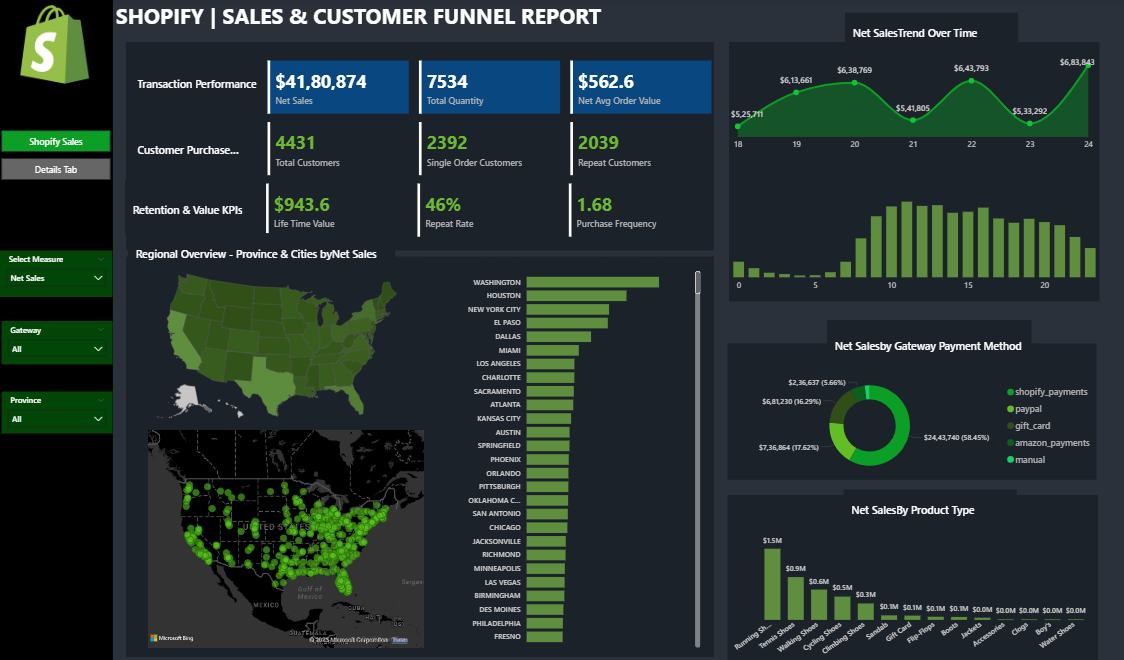

The page's visual inventory and layout, read from the dashboard file:
{"tool":"powerbi","page":{"name":"Shopify Sales","canvas":[1700,1000],"ordinal":0},"visuals":[{"type":"shape","box":[0,0,170,1000.8],"z":0},{"type":"textbox","box":[169.4,0,788.4,67.8],"z":1000},{"type":"shape","box":[189.8,67.8,885.6,314],"z":2000},{"type":"cardVisual","fields":{"Data":["shopify_sales.Net Sales","shopify_sales.Total Quantity","shopify_sales.Net Avg Order Value"]},"box":[397.6,90.4,680,90.4],"z":3000},{"type":"cardVisual","fields":{"Data":["shopify_sales.Transaction Performance"]},"box":[189.8,90.4,214.6,70],"z":4000},{"type":"cardVisual","fields":{"Data":["shopify_sales.Total Customers","shopify_sales.Single Order Customers","shopify_sales.Repeat Customers"]},"box":[397.6,183,680,90.4],"z":5000},{"type":"cardVisual","fields":{"Data":["shopify_sales.Customer Purchase Behaviour"]},"box":[189.8,180.7,214.6,90.4],"z":6000},{"type":"cardVisual","fields":{"Data":["shopify_sales.Life Time Value","shopify_sales.Repeat Rate","shopify_sales.Purchase Frequency"]},"box":[395.3,275.6,680,90.4],"z":7000},{"type":"cardVisual","fields":{"Data":["shopify_sales.Retention & Value KPIs"]},"box":[183,271.1,214.6,90.4],"z":8000},{"type":"shape","box":[189.8,390.8,885.6,603.2],"z":9000},{"type":"shapeMap","fields":{"Category":["shopify_sales.Billing Address Province"],"Value":["shopify_sales.Net Sales"]},"box":[189.8,399.9,454.1,250.8],"z":9001},{"type":"slicer","fields":{"Values":["Select Measure.Select Measure"]},"box":[0,381.8,169.4,70],"z":9002},{"type":"map","fields":{"Category":["shopify_sales.Location"]},"box":[216.9,646.1,427,338.9],"z":9003},{"type":"clusteredBarChart","fields":{"Category":["shopify_sales.CITY"],"Y":["shopify_sales.Net Sales"]},"box":[686.8,399.9,372.7,585.1],"z":9004},{"type":"cardVisual","fields":{"Data":["shopify_sales.Map Title"]},"box":[187.5,350.2,413.4,61],"z":9005},{"type":"shape","box":[1097.9,67.8,558,390.8],"z":9006},{"type":"areaChart","fields":{"Category":["shopify_sales.Invoice Date.Variation.Date Hierarchy.Day"],"Y":["shopify_sales.Net Sales"]},"box":[1095.7,79.1,558,160.4],"z":9007},{"type":"columnChart","fields":{"Category":["shopify_sales.Hour"],"Y":["shopify_sales.Net Sales"]},"box":[1097.9,264.3,558,187.5],"z":9008},{"type":"cardVisual","fields":{"Data":["shopify_sales.Trend Title"]},"box":[1267.3,18.1,271.1,61],"z":9009},{"type":"shape","box":[1095.7,521.8,555.7,205.6],"z":9010},{"type":"donutChart","fields":{"Category":["shopify_sales.Gateway"],"Y":["shopify_sales.Net Sales"]},"box":[1097.9,562.5,558,164.9],"z":9011},{"type":"shape","box":[1095.7,750,558,250.8],"z":9013},{"type":"columnChart","fields":{"Category":["shopify_sales.Product Type"],"Y":["shopify_sales.Net Sales"]},"box":[1097.9,797.5,553.5,203.3],"z":9014},{"type":"cardVisual","fields":{"Data":["shopify_sales.Product Title"]},"box":[1265.1,736.5,271.1,61],"z":9015},{"type":"cardVisual","fields":{"Data":["shopify_sales.Gateway Title"]},"box":[1240.2,481.2,318.5,79.1],"z":9016},{"type":"image","box":[15.8,6.8,133.3,128.8],"z":9017},{"type":"slicer","fields":{"Values":["shopify_sales.Billing Address Province"]},"box":[2.3,594.1,167.2,63.3],"z":9018},{"type":"slicer","fields":{"Values":["shopify_sales.Gateway"]},"box":[2.3,488,167.2,65.5],"z":9019},{"type":"pageNavigator","box":[2.3,201.1,164.9,74.5],"z":9020}]}

Visuals, with their boxes on the page's 1700x1000 design canvas (x1, y1, x2, y2). These are canvas units, not pixel positions in the 1124x660 screenshot, which may show the page scaled, cropped or inside an application window:
shape: [0,0,170,1001]
textbox: [169,0,958,68]
shape: [190,68,1075,382]
cardVisual - shopify_sales.Net Sales x shopify_sales.Total Quantity: [398,90,1078,181]
cardVisual - shopify_sales.Transaction Performance: [190,90,404,160]
cardVisual - shopify_sales.Total Customers x shopify_sales.Single Order Customers: [398,183,1078,273]
cardVisual - shopify_sales.Customer Purchase Behaviour: [190,181,404,271]
cardVisual - shopify_sales.Life Time Value x shopify_sales.Repeat Rate: [395,276,1075,366]
cardVisual - shopify_sales.Retention & Value KPIs: [183,271,398,362]
shape: [190,391,1075,994]
shapeMap - shopify_sales.Billing Address Province x shopify_sales.Net Sales: [190,400,644,651]
slicer - Select Measure.Select Measure: [0,382,169,452]
map - shopify_sales.Location: [217,646,644,985]
clusteredBarChart - shopify_sales.CITY x shopify_sales.Net Sales: [687,400,1060,985]
cardVisual - shopify_sales.Map Title: [188,350,601,411]
shape: [1098,68,1656,459]
areaChart - shopify_sales.Invoice Date.Variation.Date Hierarchy.Day x shopify_sales.Net Sales: [1096,79,1654,240]
columnChart - shopify_sales.Hour x shopify_sales.Net Sales: [1098,264,1656,452]
cardVisual - shopify_sales.Trend Title: [1267,18,1538,79]
shape: [1096,522,1651,727]
donutChart - shopify_sales.Gateway x shopify_sales.Net Sales: [1098,562,1656,727]
shape: [1096,750,1654,1001]
columnChart - shopify_sales.Product Type x shopify_sales.Net Sales: [1098,798,1651,1001]
cardVisual - shopify_sales.Product Title: [1265,736,1536,798]
cardVisual - shopify_sales.Gateway Title: [1240,481,1559,560]
image: [16,7,149,136]
slicer - shopify_sales.Billing Address Province: [2,594,170,657]
slicer - shopify_sales.Gateway: [2,488,170,554]
pageNavigator: [2,201,167,276]
